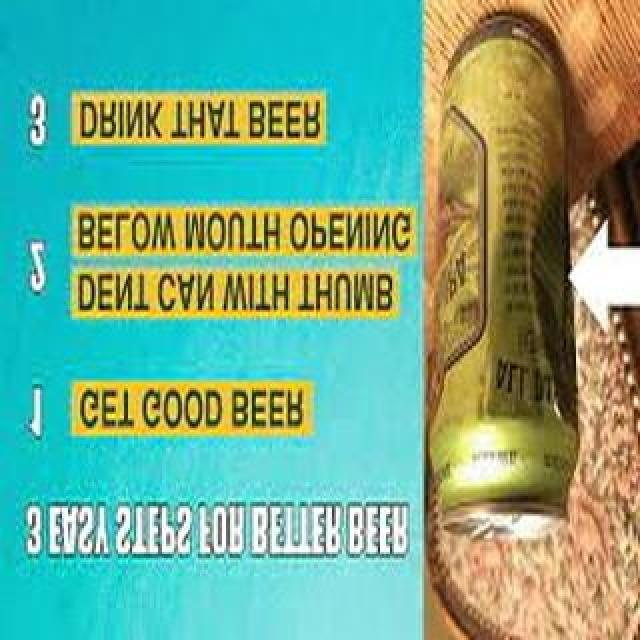Can: (436, 4, 578, 554)
